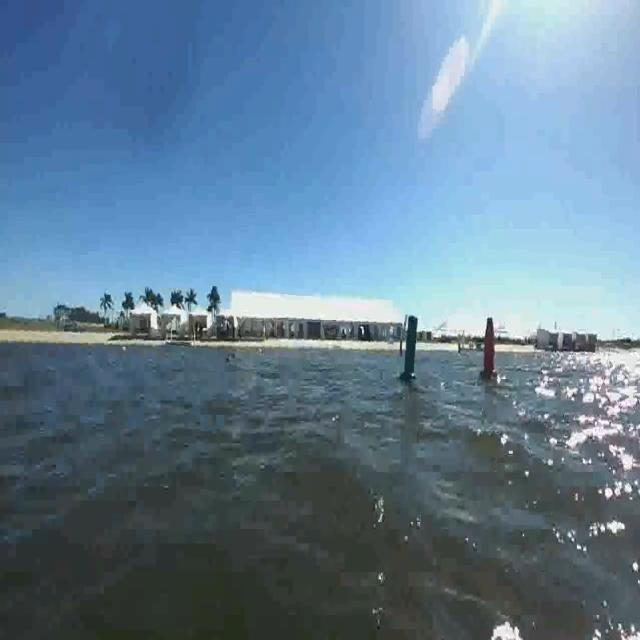green-column-buoy: (400, 311, 422, 384)
red-column-buoy: (480, 315, 500, 379)
